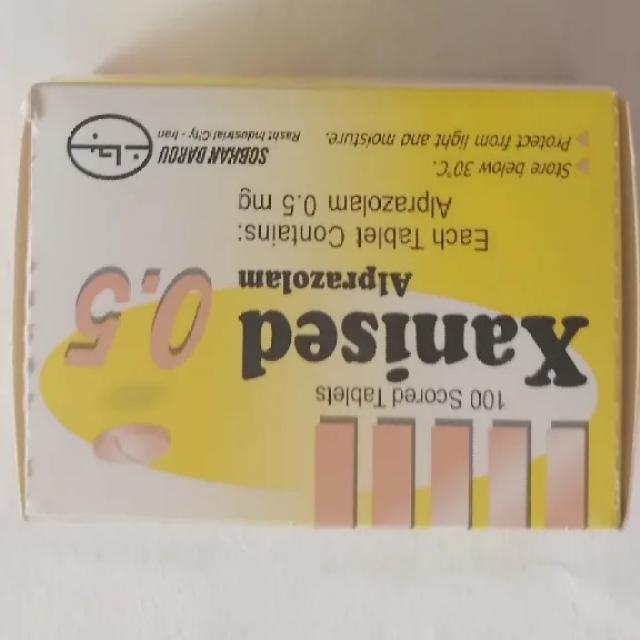drug-name: (240, 308, 594, 390)
